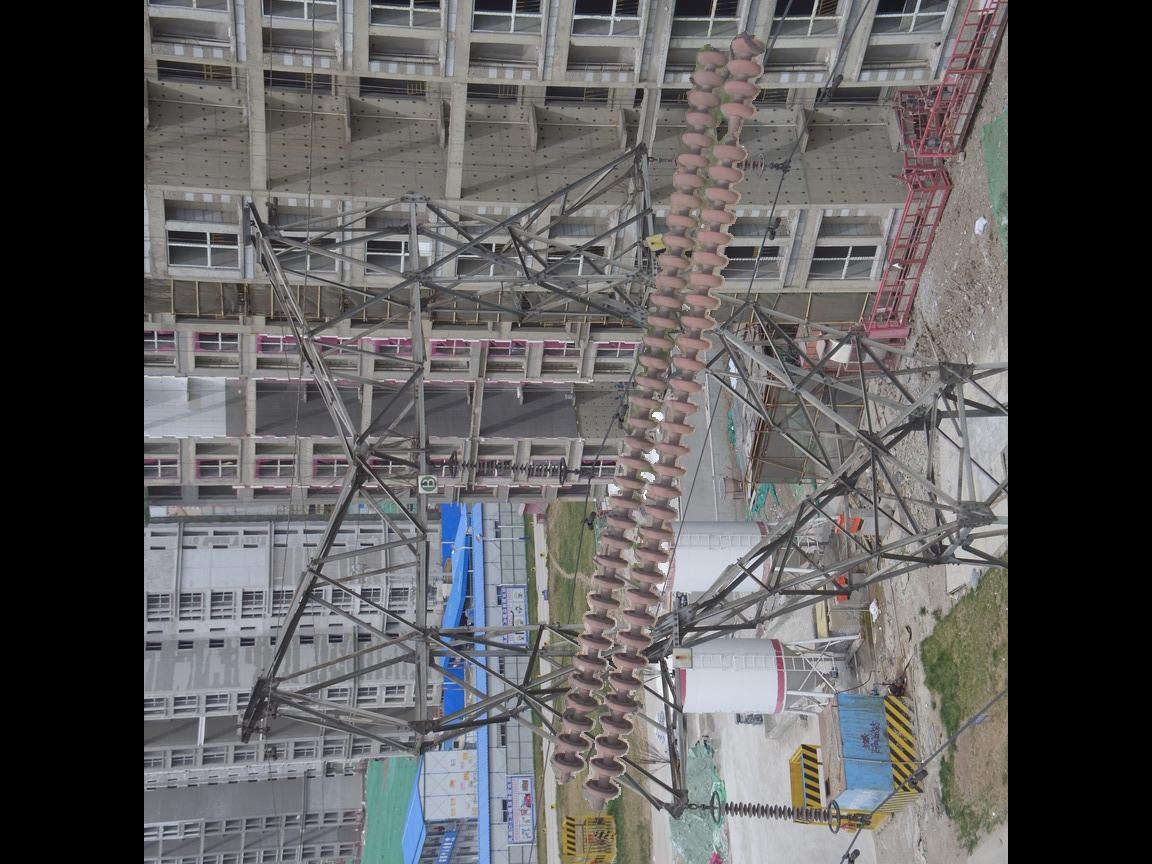insulator: (545, 29, 770, 813), (723, 797, 834, 827), (455, 454, 559, 483)
insulator_stringdrop: (709, 99, 756, 164)
